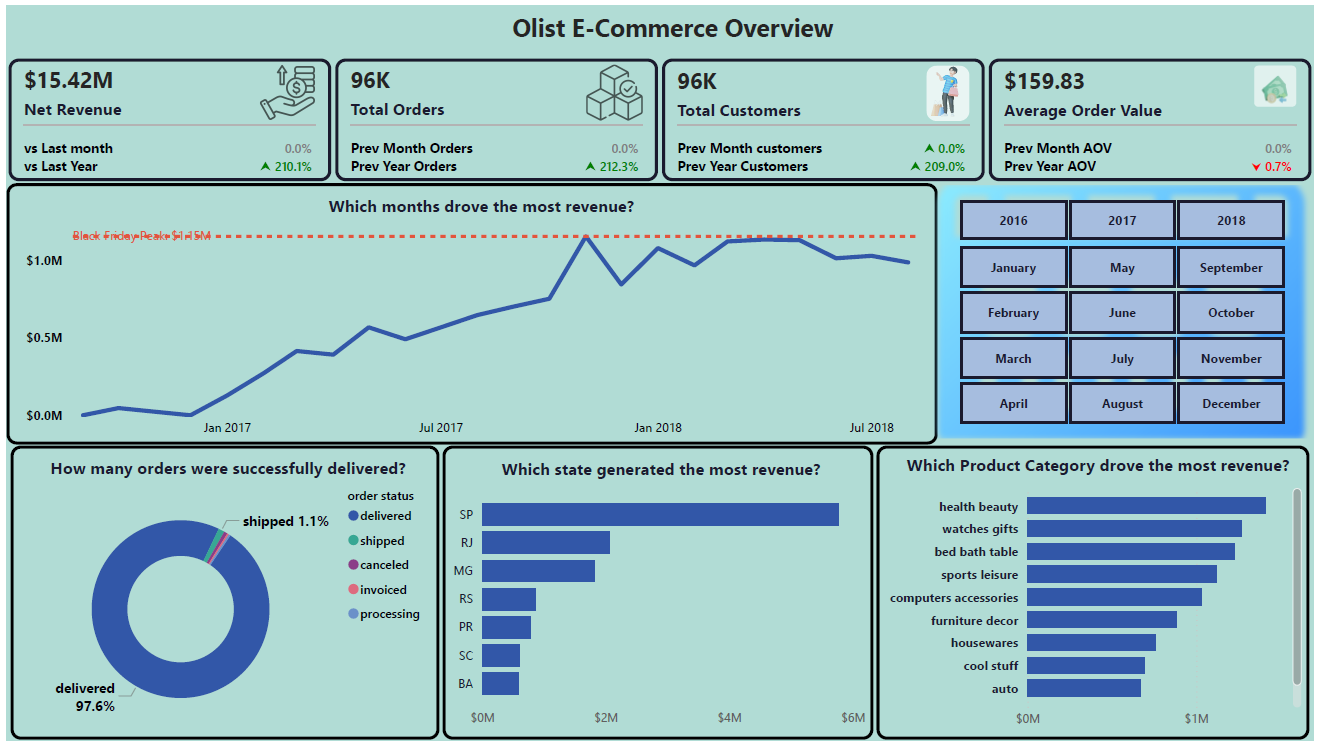

The page's visual inventory and layout, read from the dashboard file:
{"tool":"powerbi","page":{"name":"Overview","canvas":[1280,720],"ordinal":0},"visuals":[{"type":"cardVisual","fields":{"Data":["olist_customers_dataset.Total Revenue"]},"box":[0,46,320,128],"z":0},{"type":"lineChart","title":"Which months drove the most  revenue?","fields":{"Y":["olist_customers_dataset.Net Revenue"],"Category":["olist_orders_dataset.order_purchase_timestamp.Variation.Date Hierarchy.Year","olist_orders_dataset.order_purchase_timestamp.Variation.Date Hierarchy.Month"]},"box":[0,174,912,256],"z":1000},{"type":"barChart","title":"Which state generated the most revenue?","fields":{"Y":["olist_customers_dataset.Net Revenue"],"Category":["olist_customers_dataset.customer_state"]},"box":[427,431.3,422,288],"z":2000},{"type":"donutChart","title":"How many orders were successfully delivered?","fields":{"Category":["olist_orders_dataset.order_status"],"Y":["CountNonNull(olist_orders_dataset.order_id)"]},"box":[4,431.3,420,288],"z":3000},{"type":"barChart","title":"Which Product Category drove the most revenue?","fields":{"Category":["product_category_name_translation.product_category_name_english"],"Y":["olist_customers_dataset.Net Revenue"]},"box":[852,431.3,424,288],"z":4000},{"type":"textbox","box":[464,0,377,46],"z":5000},{"type":"cardVisual","fields":{"Data":["olist_customers_dataset.Total Orders"]},"box":[320,46,320,128],"z":6000},{"type":"cardVisual","fields":{"Data":["olist_customers_dataset.Total Customers"]},"box":[640,46,320,128],"z":7000},{"type":"cardVisual","fields":{"Data":["olist_customers_dataset.Average Order Value"]},"box":[960,46,320,128],"z":8000},{"type":"image","box":[897,176,390,248],"z":8500},{"type":"slicer","fields":{"Values":["calender.Year"]},"box":[908.3,184,367.3,52],"z":9000},{"type":"slicer","fields":{"Values":["calender.Month Name"]},"box":[908.3,229,367.3,187],"z":11000}]}

Visuals, with their boxes in screenshot pixels (x1, y1, x2, y2), scaled from the page's 1280x720 canvas onto the 1329x753 screenshot:
cardVisual - olist_customers_dataset.Total Revenue: rect(0, 48, 332, 182)
"Which months drove the most  revenue?" lineChart: rect(0, 182, 947, 450)
"Which state generated the most revenue?" barChart: rect(443, 451, 882, 752)
"How many orders were successfully delivered?" donutChart: rect(4, 451, 440, 752)
"Which Product Category drove the most revenue?" barChart: rect(885, 451, 1325, 752)
textbox: rect(482, 0, 873, 48)
cardVisual - olist_customers_dataset.Total Orders: rect(332, 48, 664, 182)
cardVisual - olist_customers_dataset.Total Customers: rect(664, 48, 997, 182)
cardVisual - olist_customers_dataset.Average Order Value: rect(997, 48, 1328, 182)
image: rect(931, 184, 1328, 443)
slicer - calender.Year: rect(943, 192, 1324, 247)
slicer - calender.Month Name: rect(943, 239, 1324, 435)
